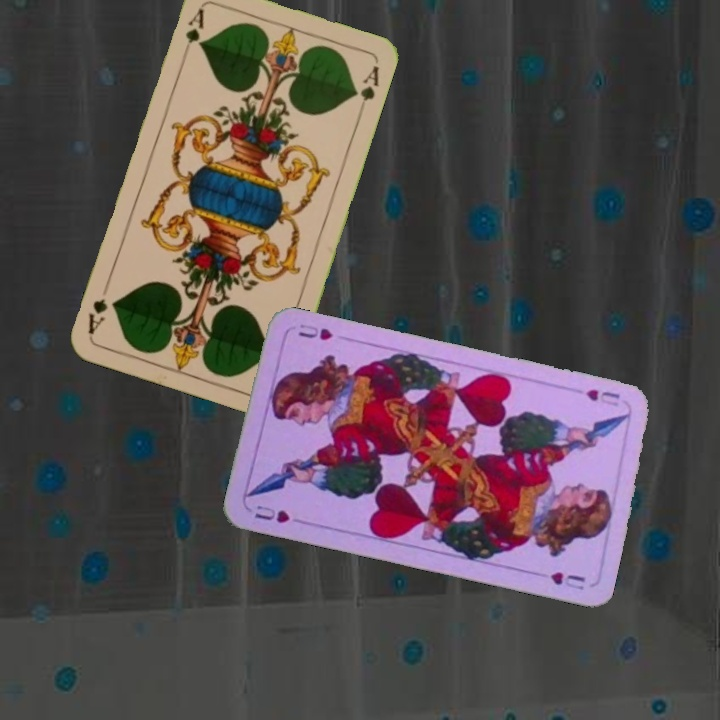GA: (178, 5, 207, 61)
HU: (250, 501, 293, 526), (582, 385, 623, 409)
